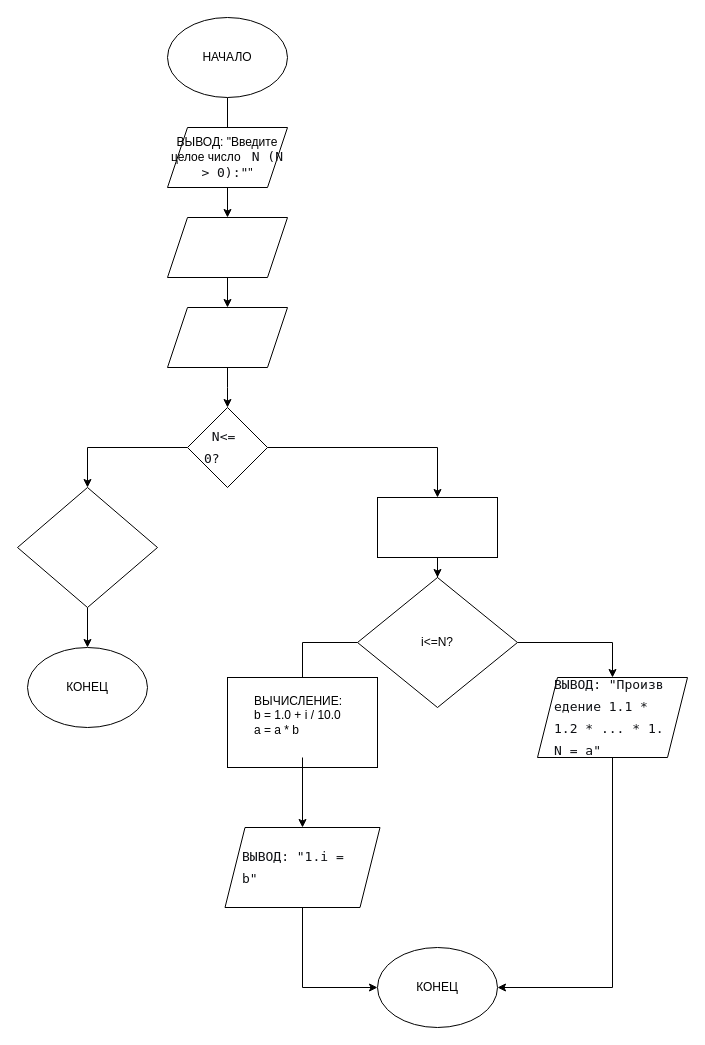
The diagram is 705 pixels wide and 1045 high, and some of its shapes have lost their labels. Each missing label, with the box of its shape:
i=1: (376, 496, 498, 558)
ВВОД ПЕРЕМЕННОЙ: N: (166, 216, 288, 278)
ВЫВОД: "N должно быть положительным числом!": (16, 486, 158, 608)
ВЫВОД: printf("N должно быть положительным числом!\n");: (166, 306, 288, 368)
